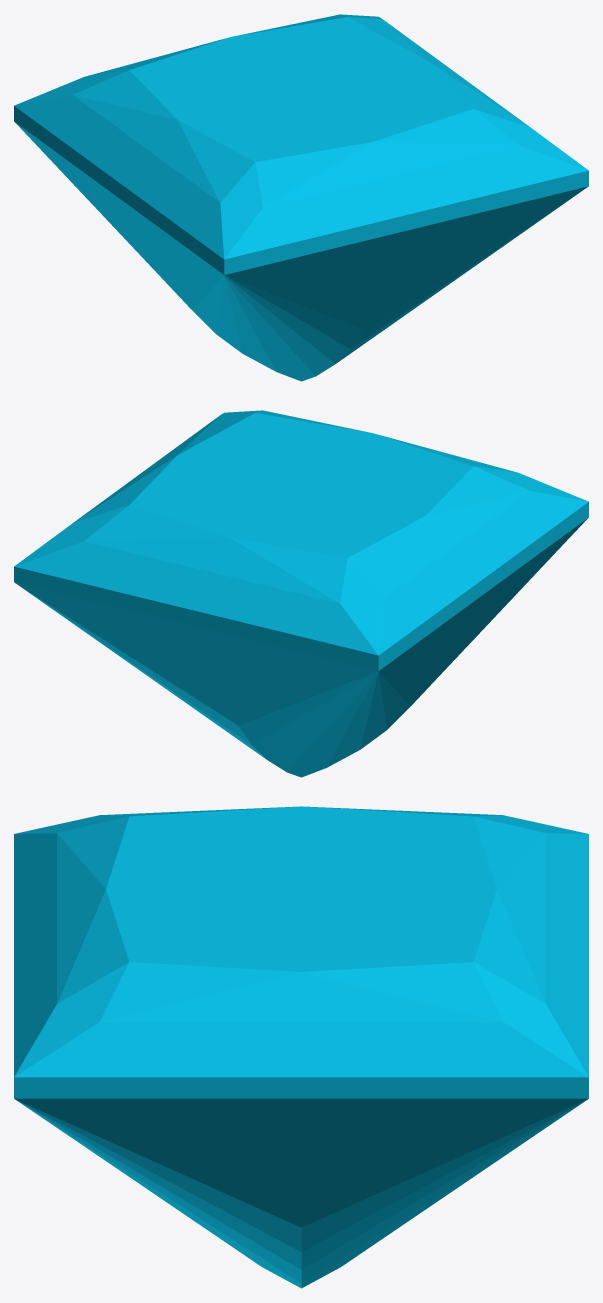
File: Head_Single Halo_Princess_0.75ct_Diamond.glb
3 renders of one model, top to bottom at view 1: azimuth 30°, elevation 25°; view 2: azimuth 150°, elevation 25°; view 3: azimuth 270°, elevation 25°, orthographic. The views are drawn at different scales.
Bounding box in the file's own units: 0.00497 × 0.0038 × 0.00496.
